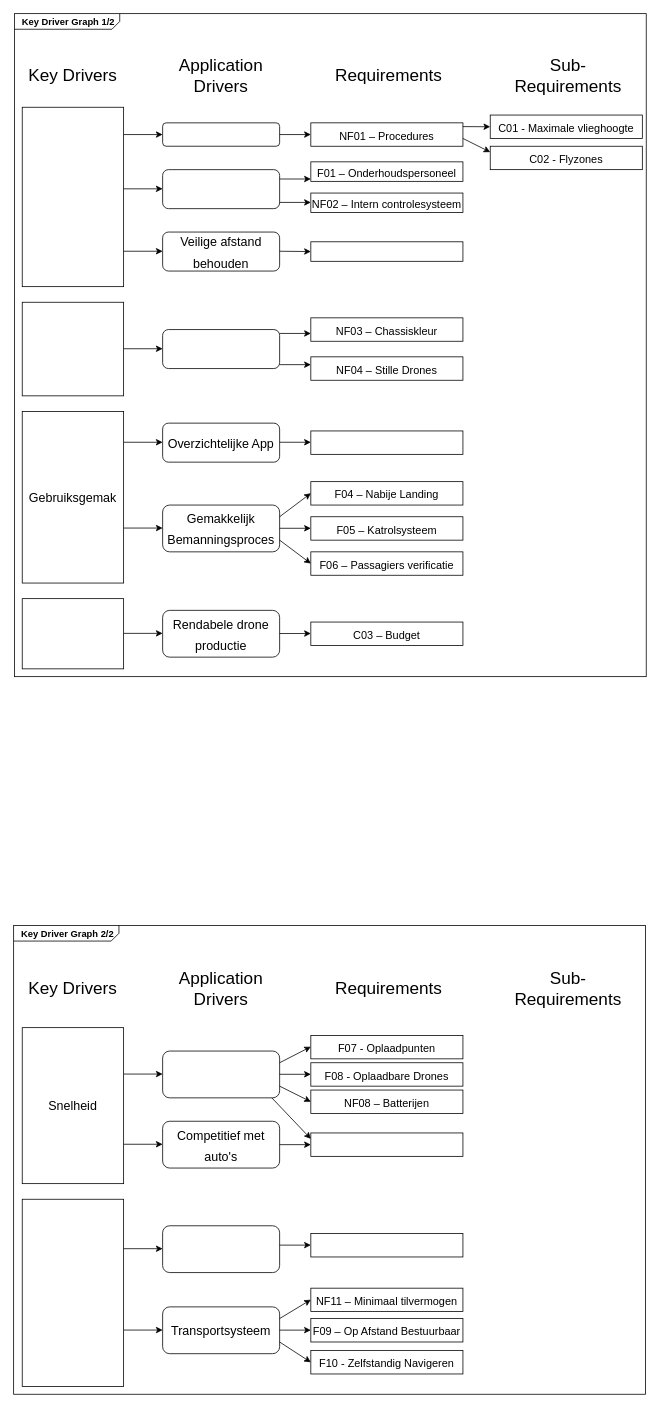
The diagram is 660 pixels wide and 1408 high, and some of its shapes have lost their labels. The shapes that lost their labels are listed below. From the top down, each one's centre as x and y in pixels, then its label:
the point at 221,134: Volgt procedures
the point at 72,196: Veiligheid
the point at 221,189: Periodieke hardware check
the point at 386,251: F02 – Afstand Bewaren
the point at 72,348: Publiek
the point at 221,349: Stoort de omgeving niet
the point at 386,442: F03 – Mobiel Oproepbaar
the point at 72,633: Rendement
the point at 221,1074: Korte Wachttijd
the point at 386,1144: NF09 – Snelle Elektromotoren
the point at 221,1249: Comfortabel transportproces
the point at 386,1245: NF10 - Interieur
the point at 72,1292: Mensentransport
